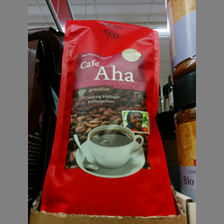coffee: (38, 19, 181, 217)
